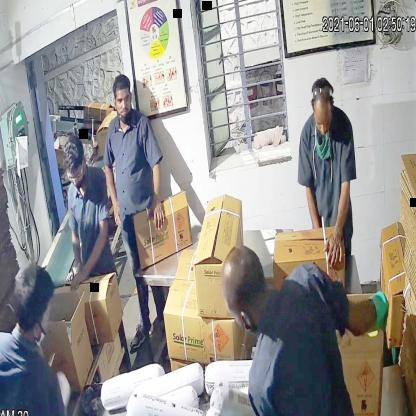goggles: (64, 165, 86, 189)
no_goggles: (108, 84, 135, 108), (311, 111, 334, 132)
